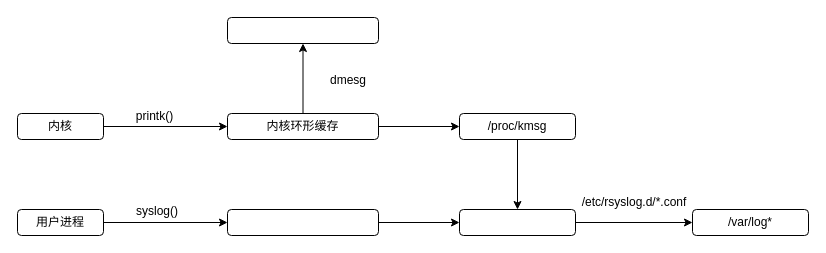
Image size: 826x253. Some labels were removed from this diagram. The centre of each missing label's shape, as x and y in pixels:
"/dev/log" goes at (x=302, y=222).
"rsyslogd" goes at (x=517, y=222).
"终端输出内核信息" goes at (x=302, y=30).
